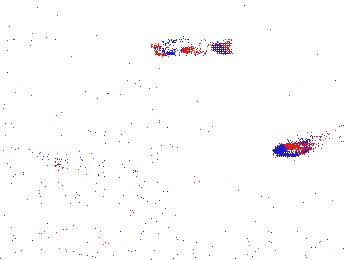glassfish: (78, 149, 185, 200)
red belly glassfish: (273, 125, 344, 158), (51, 143, 68, 176)
redtail glassfish: (155, 35, 233, 58)
